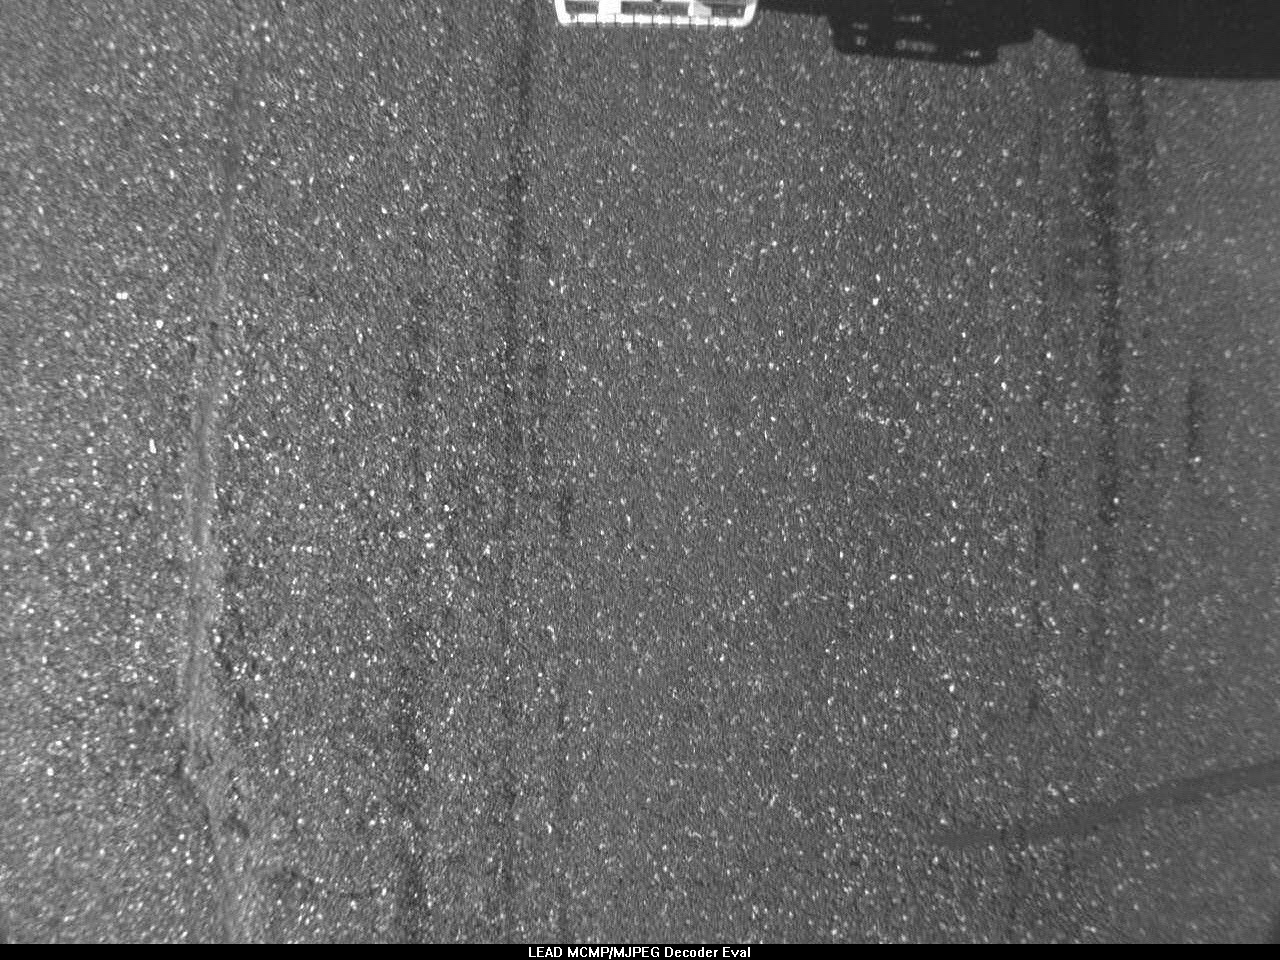sealed: (922, 754, 1264, 856)
